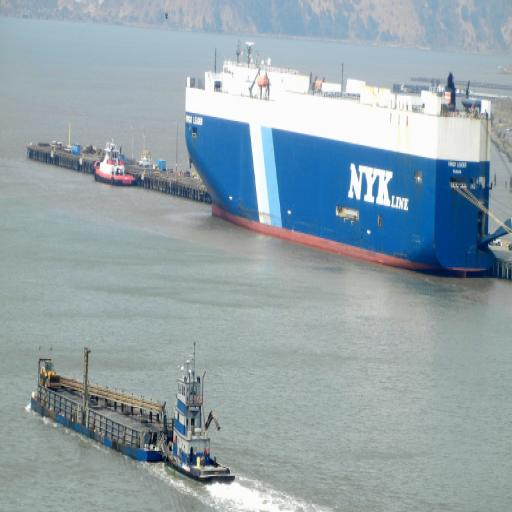tugboat: (159, 363, 238, 490), (92, 134, 141, 199)
